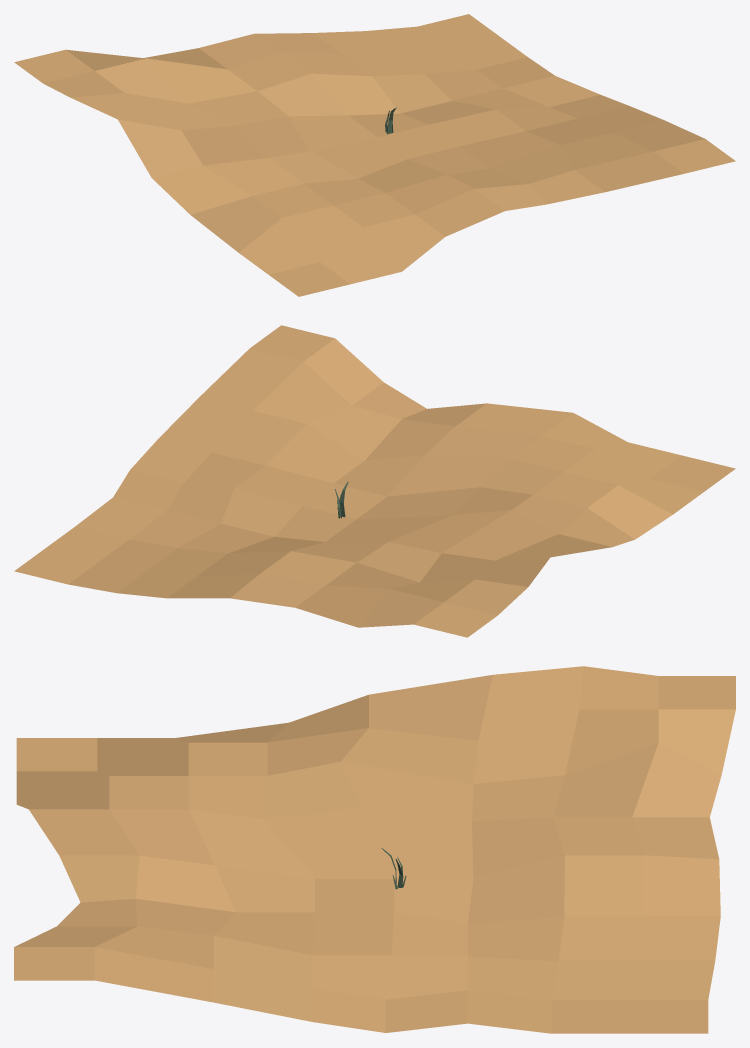
The model's file is 040620ground.gltf.
3 views of the same model, one above another, from view 1: azimuth 30°, elevation 25°; view 2: azimuth 150°, elevation 25°; view 3: azimuth 270°, elevation 25° (orthographic). The views are drawn at different scales.
Visible parts, largest first — view 1: Plane; view 2: Plane; view 3: Plane.
Boxes of the visible parts, x1,y1,x2,y2 form: Plane: (14,14,735,296); Plane: (14,325,735,637); Plane: (14,666,735,1033).
Bounding box in the file's own units: 109 × 13.54 × 112.
